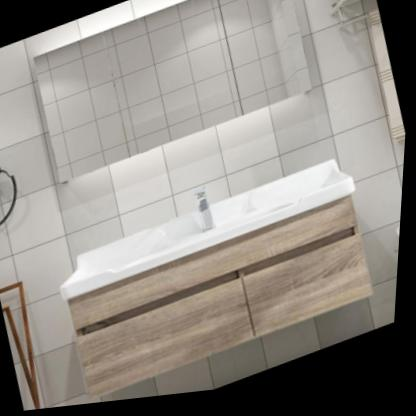Cabinet: (63, 197, 386, 407)
